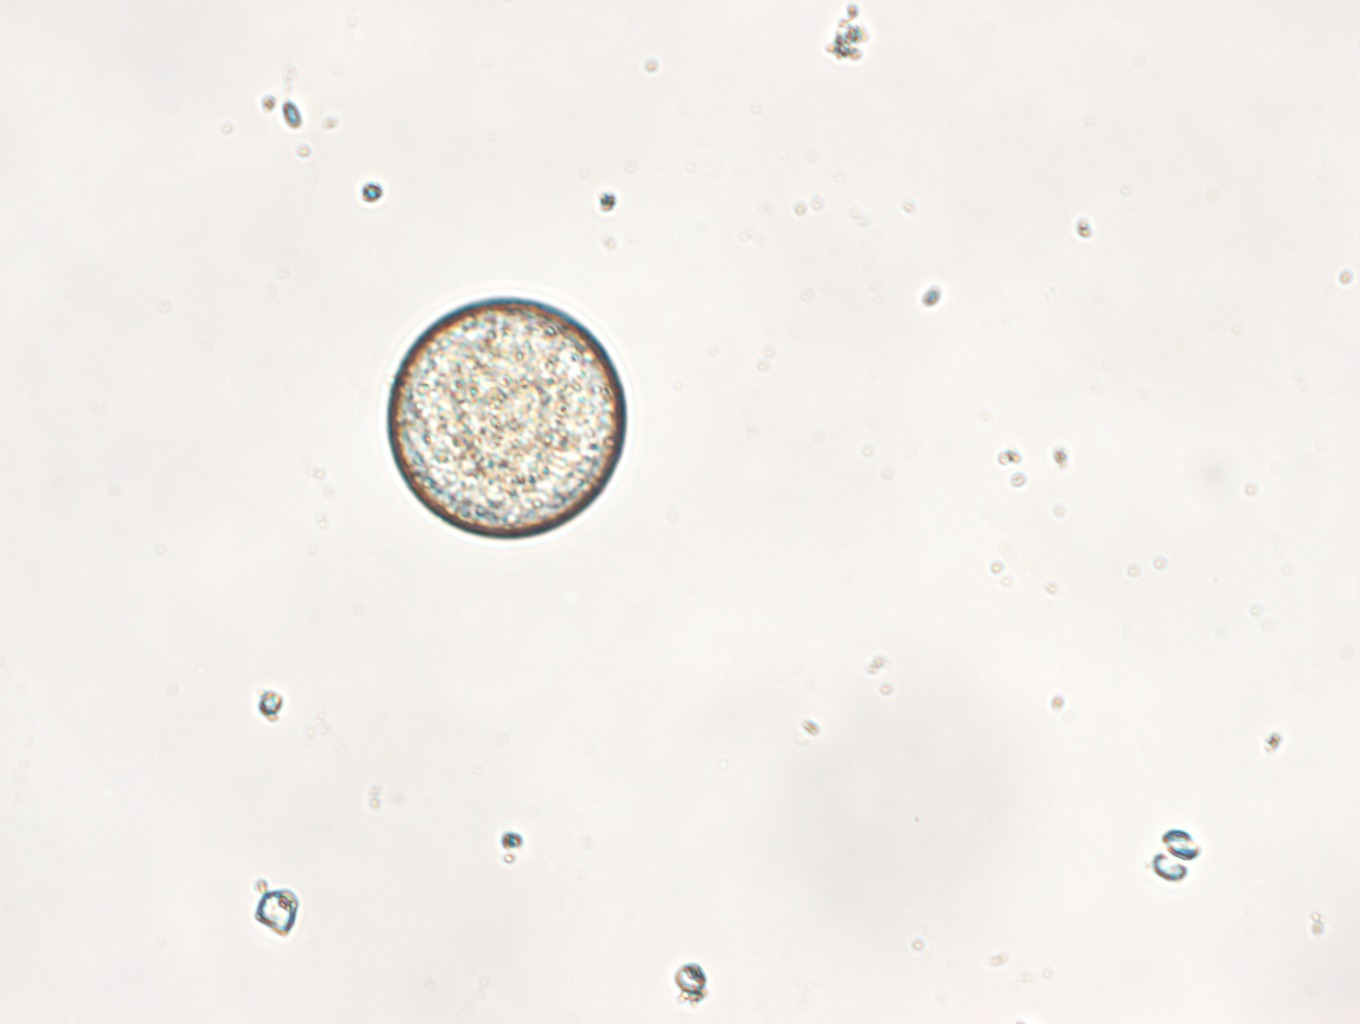coscinodiscus: (375, 285, 634, 552)
